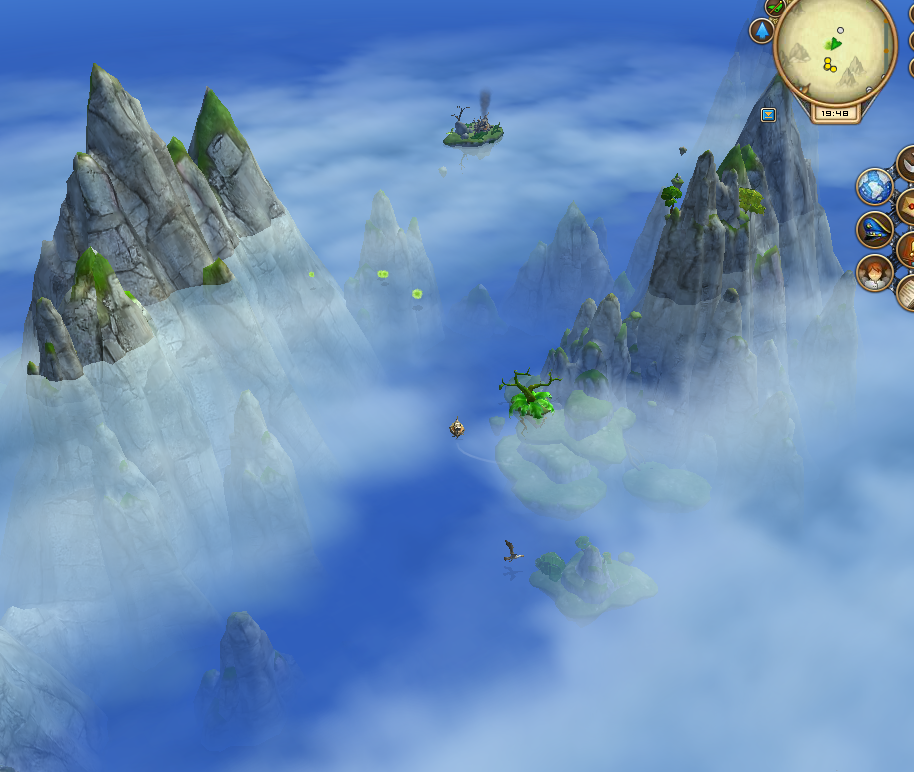dandelion-empty: (498, 361, 562, 429)
fluff: (407, 286, 427, 305), (381, 267, 390, 279), (307, 270, 316, 278), (377, 269, 383, 278)
